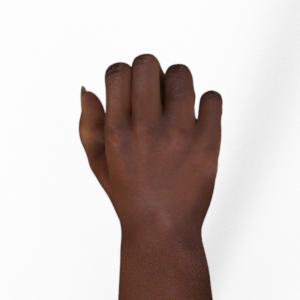rock: (80, 54, 221, 300)
